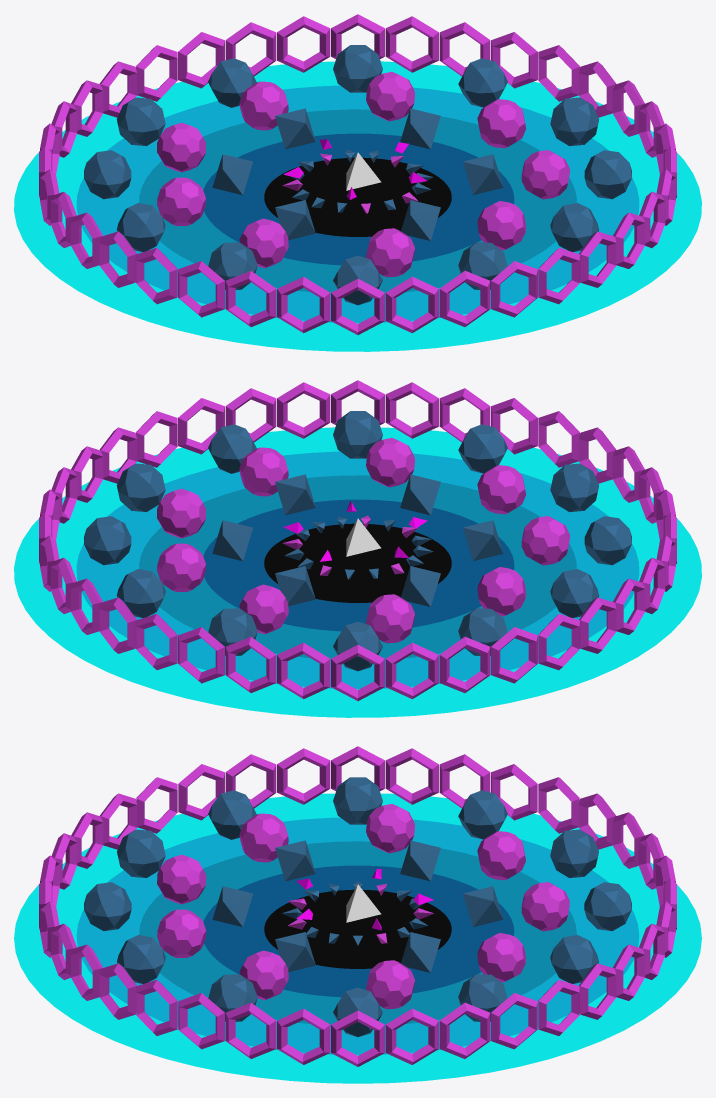
File: HeroMythicJourney.fbx
3 renders of one model, top to bottom at view 1: azimuth 30°, elevation 25°; view 2: azimuth 150°, elevation 25°; view 3: azimuth 270°, elevation 25°, orthographic.
Visible parts, largest first — view 1: GD_mesh.3068, GD_mesh.3028, GD_mesh.3030, GD_mesh.3029, GD_mesh.3027, GD_mesh.3011, GD_mesh.3009, GD_mesh.3014, GD_mesh.3007, GD_mesh.3012, GD_mesh.3016, GD_mesh.3025 (+55 smaller); view 2: GD_mesh.3068, GD_mesh.3028, GD_mesh.3030, GD_mesh.3029, GD_mesh.3027, GD_mesh.3009, GD_mesh.3010, GD_mesh.3012, GD_mesh.3008, GD_mesh.3013, GD_mesh.3019, GD_mesh.3016 (+55 smaller); view 3: GD_mesh.3068, GD_mesh.3028, GD_mesh.3030, GD_mesh.3029, GD_mesh.3027, GD_mesh.3010, GD_mesh.3013, GD_mesh.3011, GD_mesh.3005, GD_mesh.3014, GD_mesh.3025, GD_mesh.3019 (+55 smaller).
Boxes of the visible parts, box(x1,y1,x2,y2) form: GD_mesh.3068: box(14, 61, 701, 351); GD_mesh.3028: box(76, 85, 639, 322); GD_mesh.3030: box(139, 109, 576, 293); GD_mesh.3029: box(203, 133, 514, 265); GD_mesh.3027: box(264, 157, 451, 236); GD_mesh.3011: box(157, 177, 205, 226); GD_mesh.3009: box(366, 71, 414, 121); GD_mesh.3014: box(157, 122, 206, 172); GD_mesh.3007: box(521, 150, 569, 199); GD_mesh.3012: box(477, 99, 525, 148); GD_mesh.3016: box(550, 97, 599, 146); GD_mesh.3025: box(116, 97, 165, 146); GD_mesh.3068: box(14, 427, 701, 717); GD_mesh.3028: box(76, 451, 639, 688); GD_mesh.3030: box(139, 475, 576, 659); GD_mesh.3029: box(203, 499, 514, 631); GD_mesh.3027: box(264, 523, 451, 602); GD_mesh.3009: box(157, 543, 205, 592); GD_mesh.3010: box(366, 437, 414, 487); GD_mesh.3012: box(157, 488, 206, 538); GD_mesh.3008: box(521, 516, 569, 565); GD_mesh.3013: box(477, 465, 525, 514); GD_mesh.3019: box(550, 463, 599, 512); GD_mesh.3016: box(116, 463, 165, 512); GD_mesh.3068: box(14, 793, 701, 1083); GD_mesh.3028: box(76, 817, 639, 1054); GD_mesh.3030: box(139, 841, 576, 1025); GD_mesh.3029: box(203, 865, 514, 997); GD_mesh.3027: box(264, 889, 451, 968); GD_mesh.3010: box(157, 909, 206, 957); GD_mesh.3013: box(157, 854, 206, 904); GD_mesh.3011: box(366, 804, 414, 853); GD_mesh.3005: box(521, 882, 569, 931); GD_mesh.3014: box(477, 831, 525, 880); GD_mesh.3025: box(550, 829, 598, 877); GD_mesh.3019: box(117, 829, 165, 877).
Bounding box in the file's own units: 2750 × 265 × 2750.
